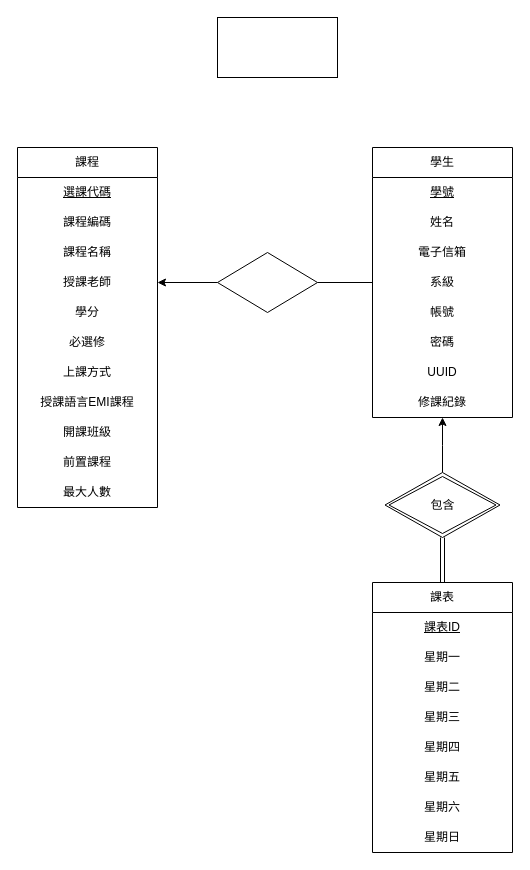
Some shapes in this 530 by 870 pixel diagram are drawn without their labels. Here are the shapes that lost their labels. From the top down, the centre of each, then its label:
point (277, 47): ER model
point (267, 282): 選課
